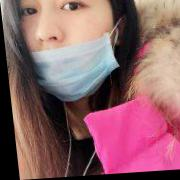WRONG: (17, 1, 121, 104)
